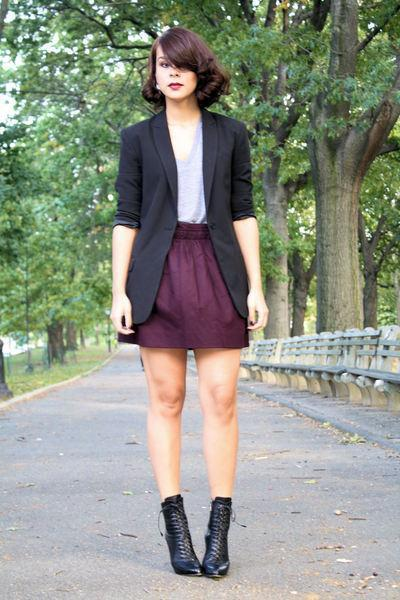jacket: (108, 103, 255, 344)
shirt: (168, 119, 205, 223)
shoe: (160, 494, 231, 580)
skirt: (140, 216, 258, 363)
